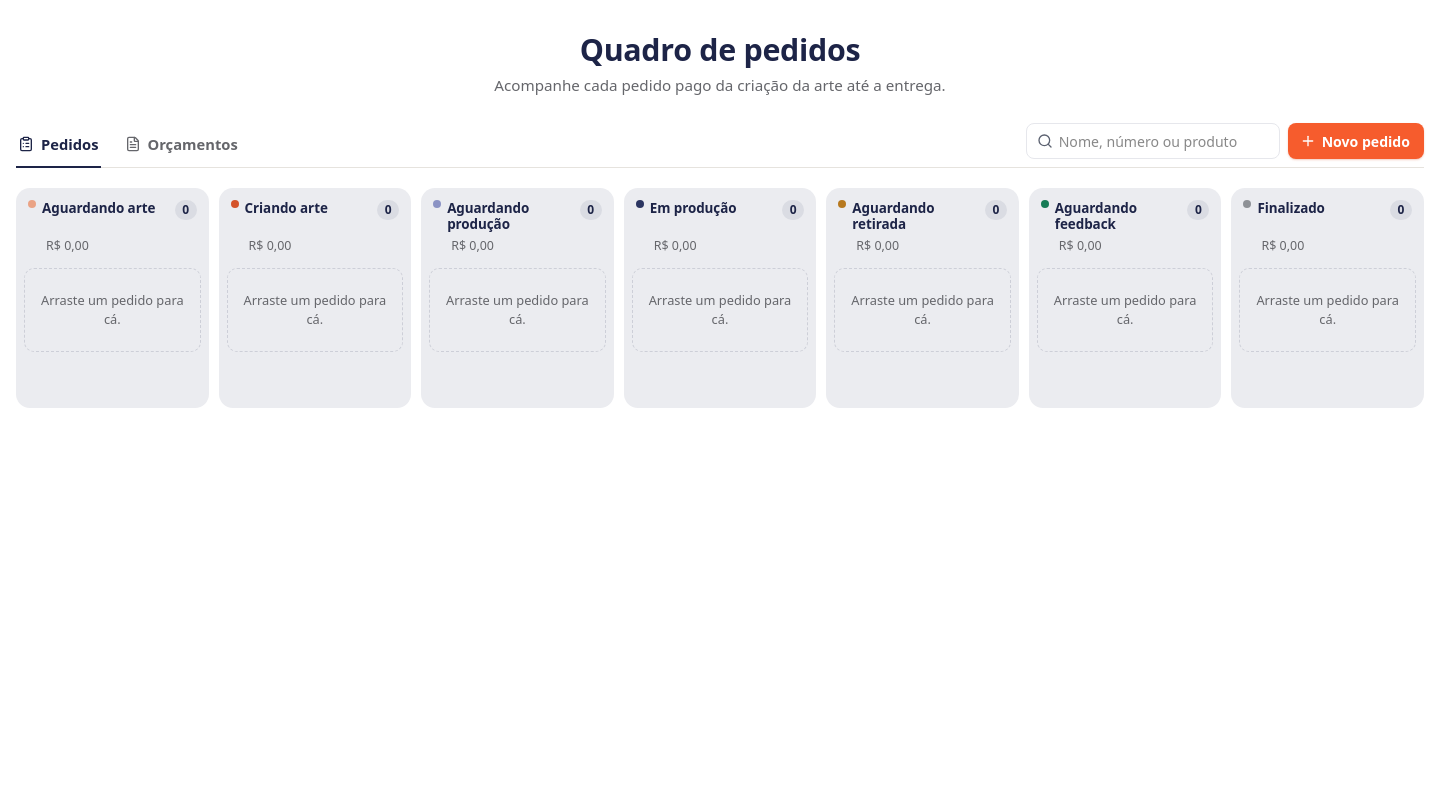
Test case: painel: aba Orçamentos › cancelar o fechamento não gera pedido nem grava recebimento
This screenshot has width=1440, height=810.
Step 1. Click the tab "Orçamentos" → (181, 146), box [122,123,240,168]
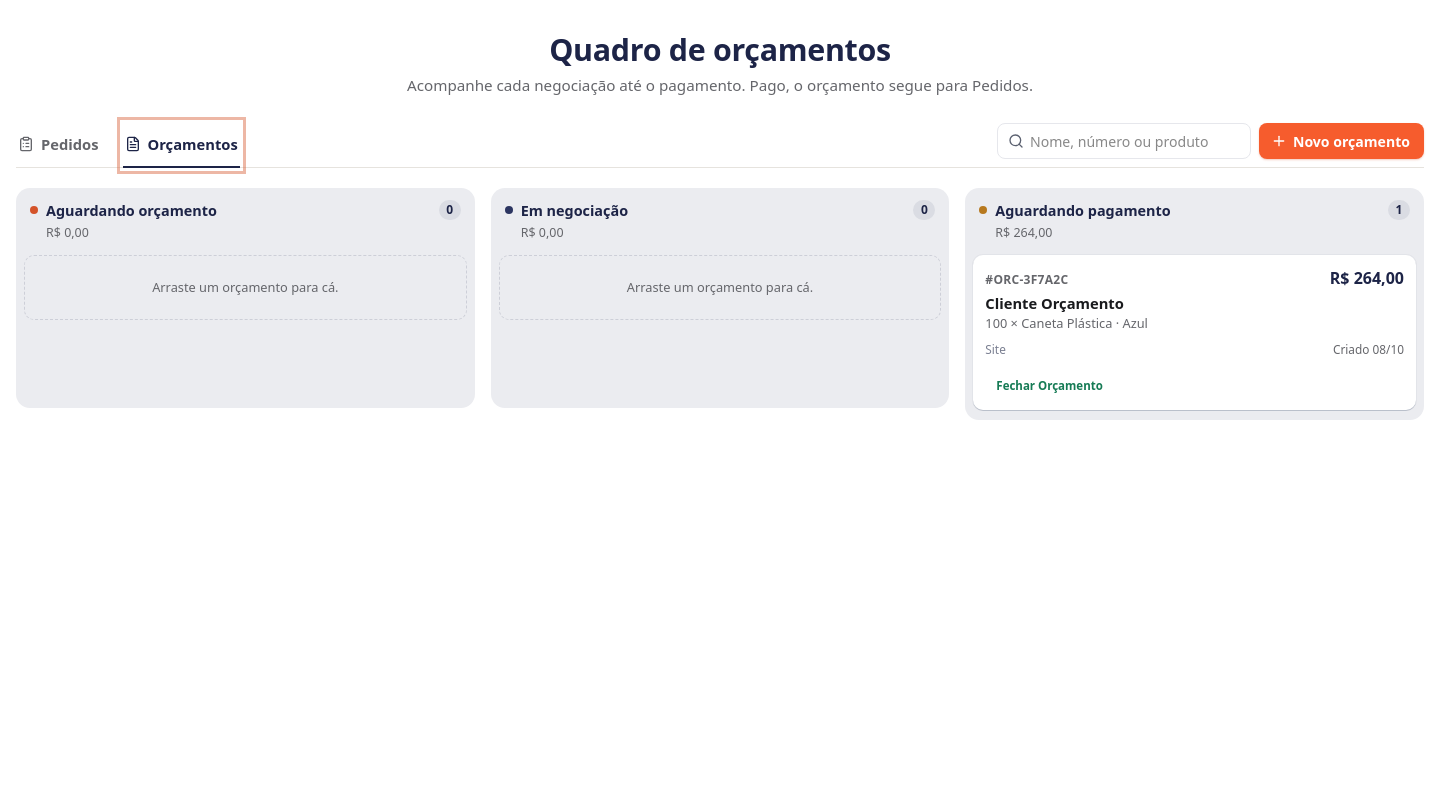
Step 2. Click the button "Fechar Orçamento" → (1050, 385), box [985,370,1114,400]
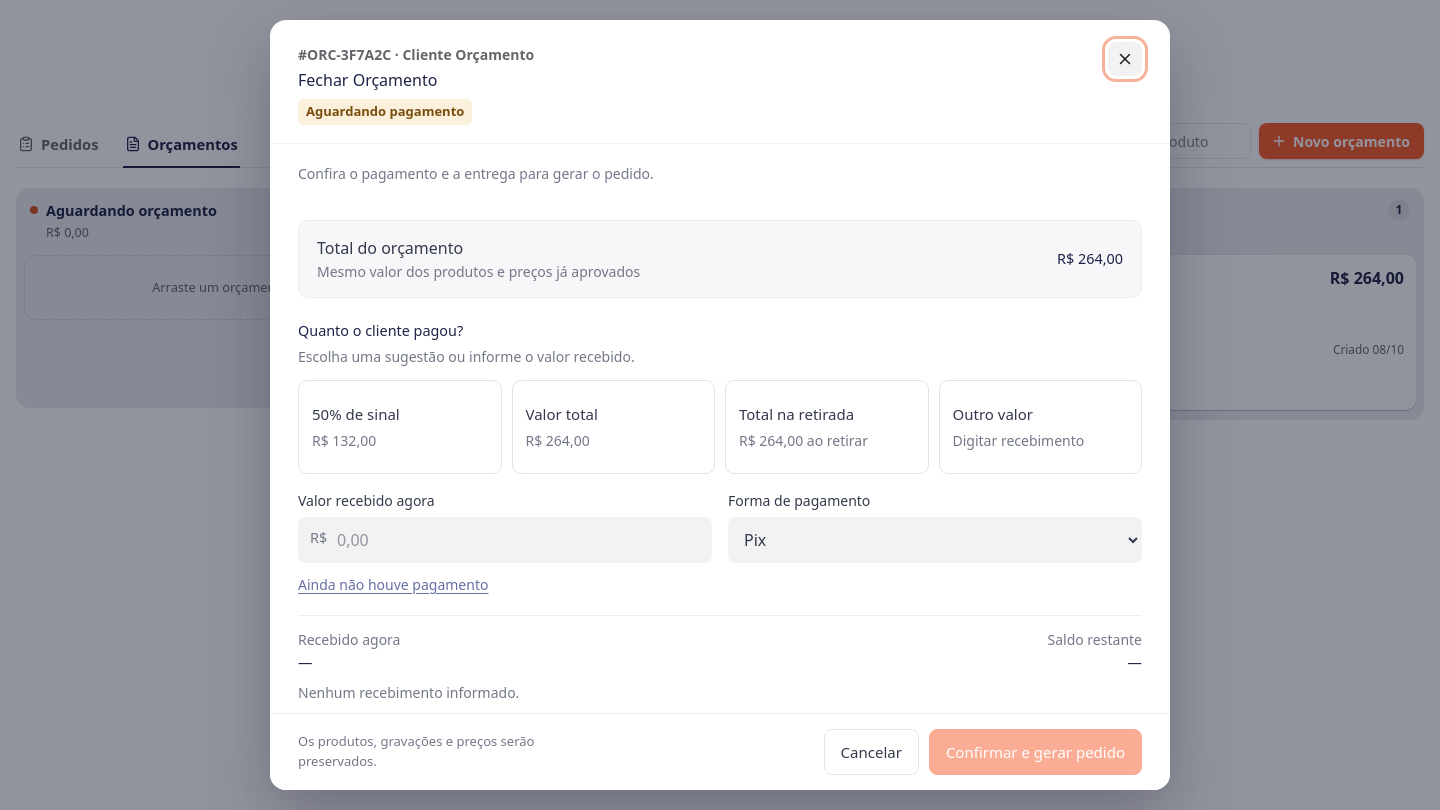
Step 3. Click the button "Cancelar" → (871, 752), box [824,728,919,775]
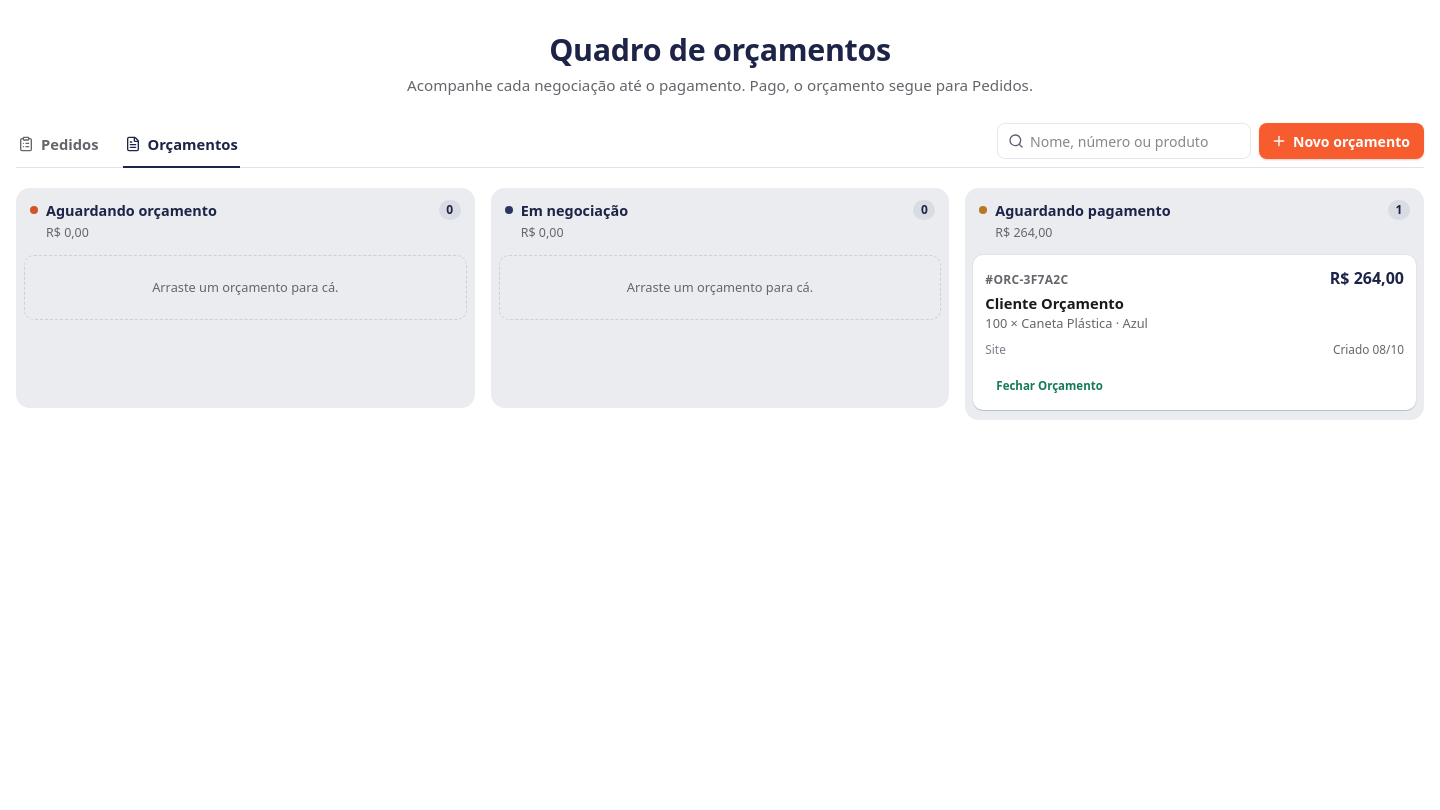
Expected: the dialog is gone
